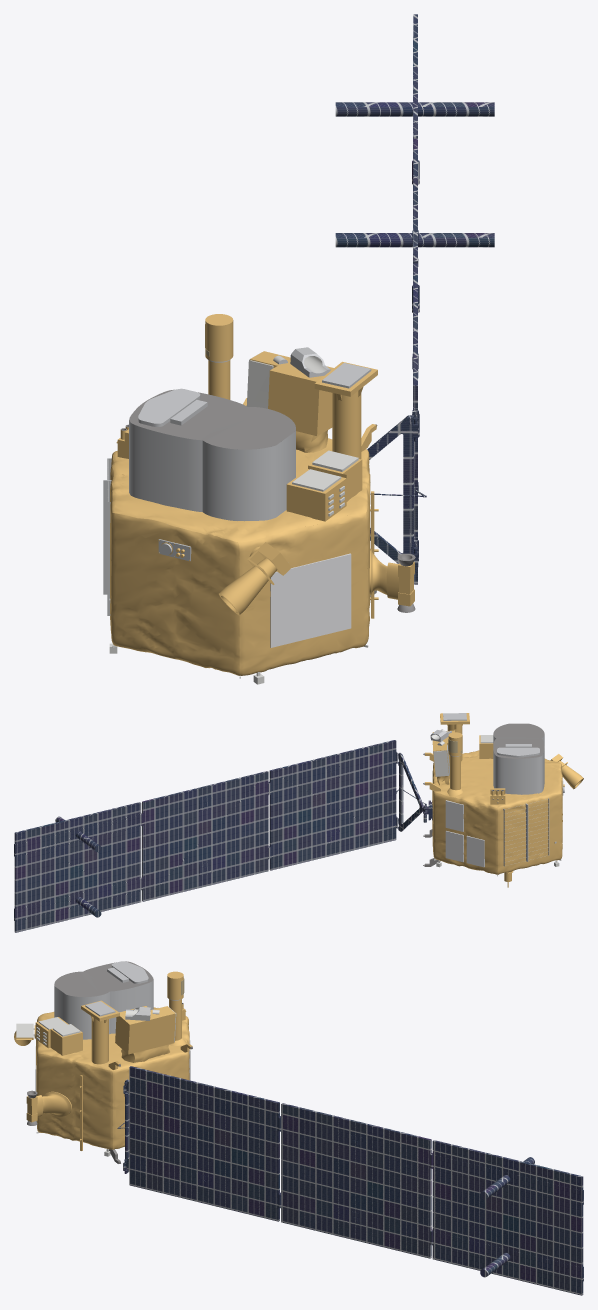
3 views of the same model, one above another, from view 1: azimuth 30°, elevation 25°; view 2: azimuth 150°, elevation 25°; view 3: azimuth 270°, elevation 25° (orthographic). The views are drawn at different scales.
Visible parts, largest first — view 1: EO-1_vFINAL [Layer10], EO-1_vFINAL [Layer1], EO-1_vFINAL [Layer8], EO-1_vFINAL [Layer5], EO-1_vFINAL [Layer4]; view 2: EO-1_vFINAL [Layer1], EO-1_vFINAL [Layer10], EO-1_vFINAL [Layer8], EO-1_vFINAL [Layer5], EO-1_vFINAL [Layer4]; view 3: EO-1_vFINAL [Layer1], EO-1_vFINAL [Layer10], EO-1_vFINAL [Layer5], EO-1_vFINAL [Layer4].
Part boxes in pixels (<box>): EO-1_vFINAL [Layer10]: <box>103,314,414,675</box>; EO-1_vFINAL [Layer1]: <box>335,14,494,584</box>; EO-1_vFINAL [Layer8]: <box>270,553,351,647</box>; EO-1_vFINAL [Layer5]: <box>121,389,415,612</box>; EO-1_vFINAL [Layer4]: <box>108,352,370,684</box>; EO-1_vFINAL [Layer1]: <box>14,740,432,932</box>; EO-1_vFINAL [Layer10]: <box>425,713,583,887</box>; EO-1_vFINAL [Layer8]: <box>445,800,484,867</box>; EO-1_vFINAL [Layer5]: <box>423,723,544,866</box>; EO-1_vFINAL [Layer4]: <box>431,729,561,876</box>; EO-1_vFINAL [Layer1]: <box>117,1066,583,1295</box>; EO-1_vFINAL [Layer10]: <box>14,961,192,1150</box>; EO-1_vFINAL [Layer5]: <box>27,961,192,1163</box>; EO-1_vFINAL [Layer4]: <box>16,1007,176,1156</box>.
Bounding box in the file's own units: 4.44 × 1.74 × 5.25.
Materials: 8 (1 with a texture image).
